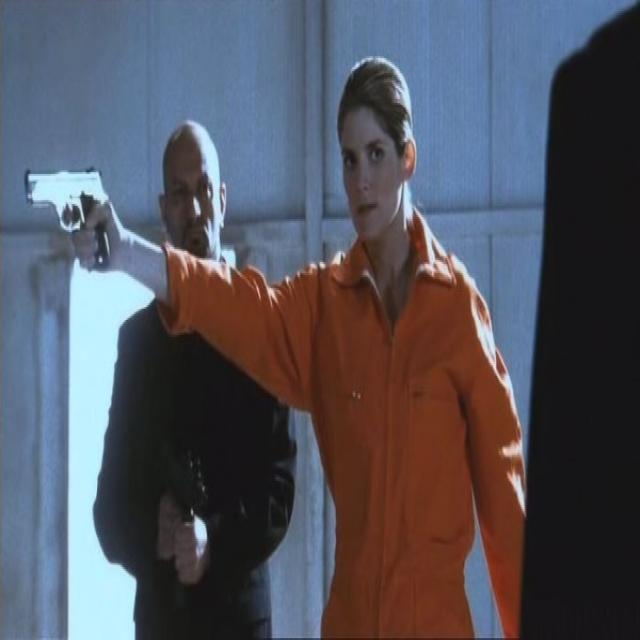weapons: (17, 140, 130, 282)
